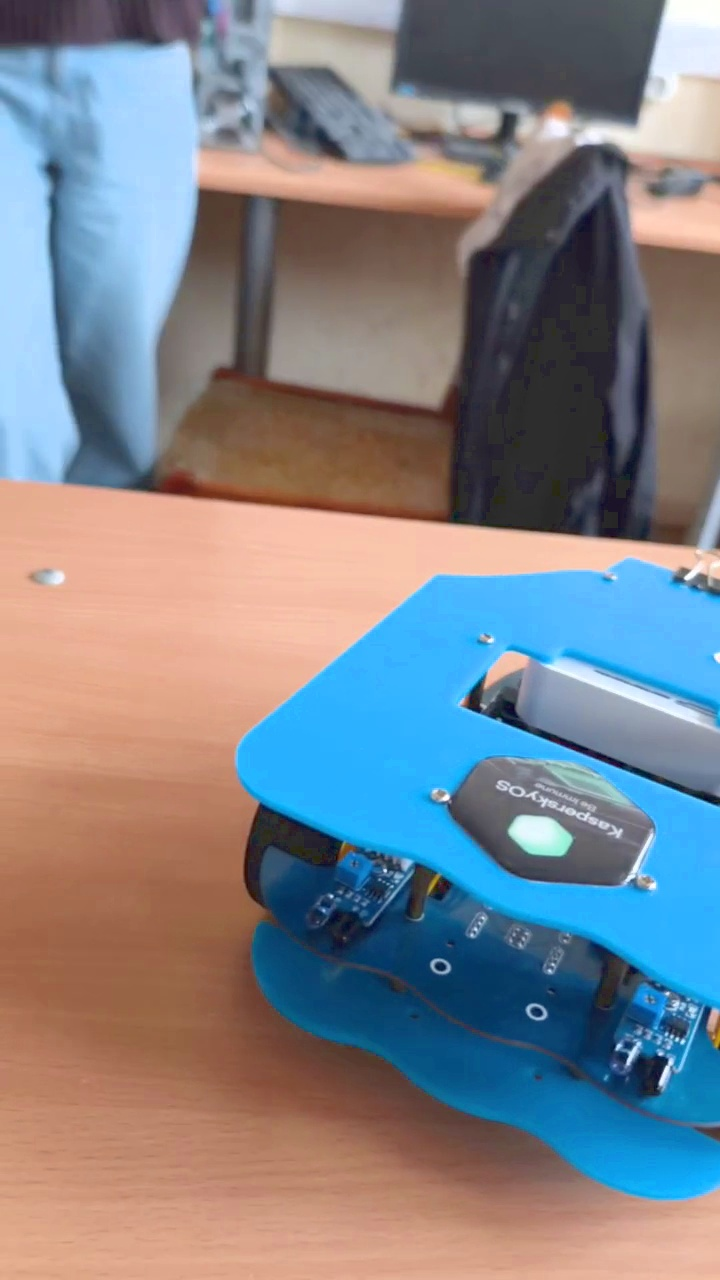robot: (231, 545, 720, 1204)
